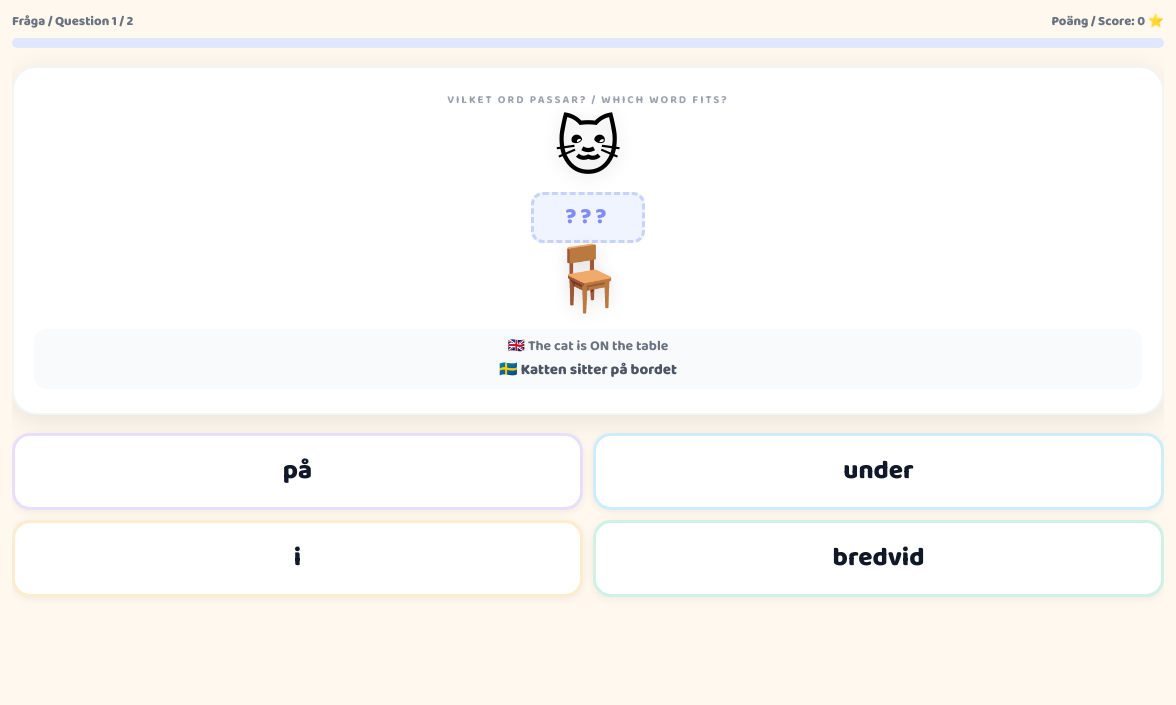
Scenario: QuizGame › shows the correct answer when wrong option selected
What coordinates should you click on to do the following:
click the button with test id "quiz-option-under"
I would click on:
 (878, 471)
Its box is [593,433,1164,510].
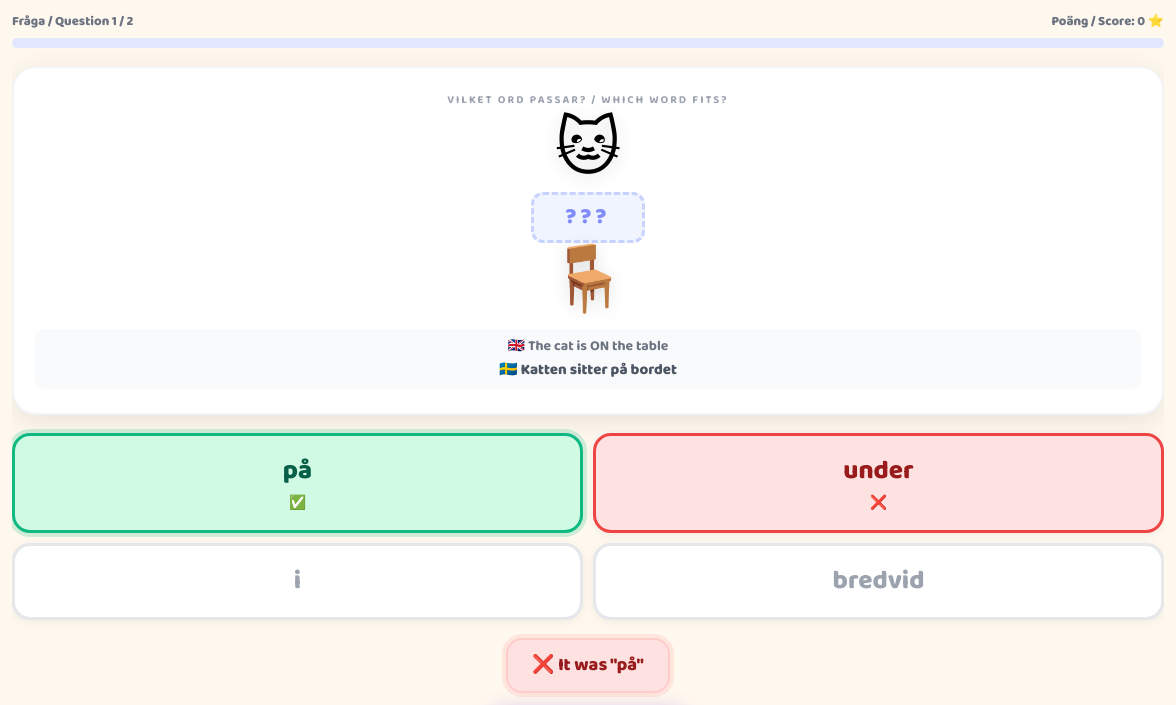
Now the text "❌ It was \"på\"" is shown, box [506,638,670,693]
